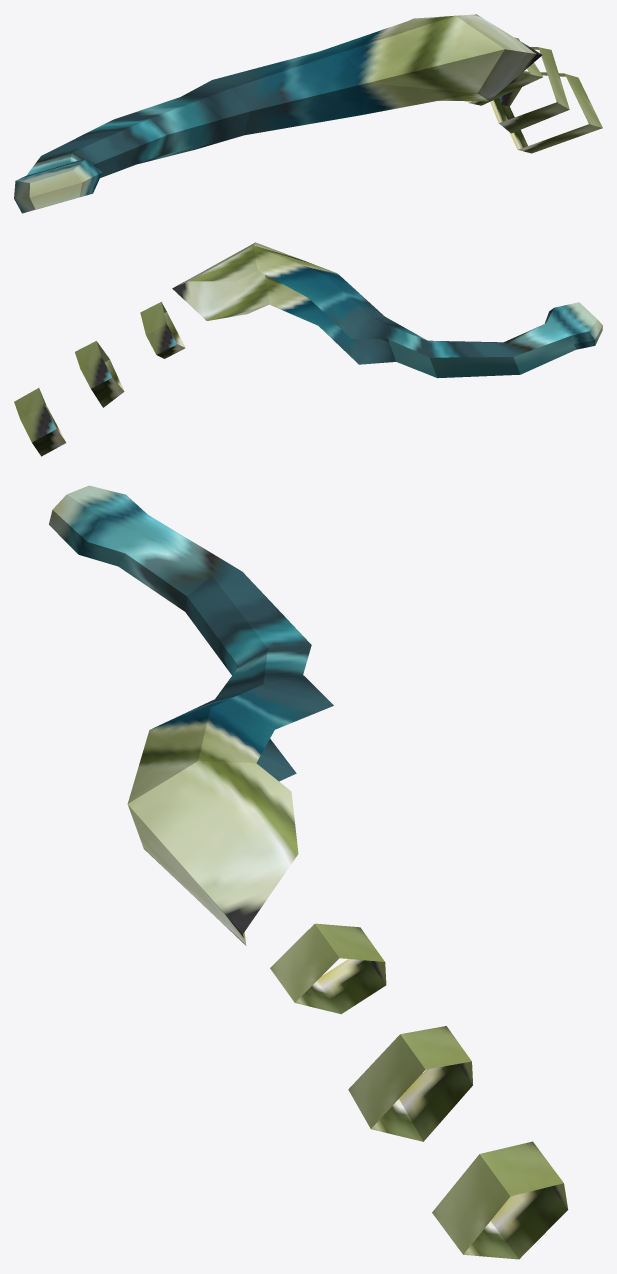
3 views of the same model, one above another, from view 1: azimuth 30°, elevation 25°; view 2: azimuth 150°, elevation 25°; view 3: azimuth 270°, elevation 25° (orthographic). The views are drawn at different scales.
Parts seen in each view (by area): view 1: Object01; view 2: Object01; view 3: Object01.
Boxes of the visible parts, x1,y1,x2,y2 form: Object01: (14, 14, 602, 213); Object01: (14, 242, 602, 456); Object01: (49, 485, 568, 1259).
Bounding box in the file's own units: 121 × 55.88 × 43.85.
